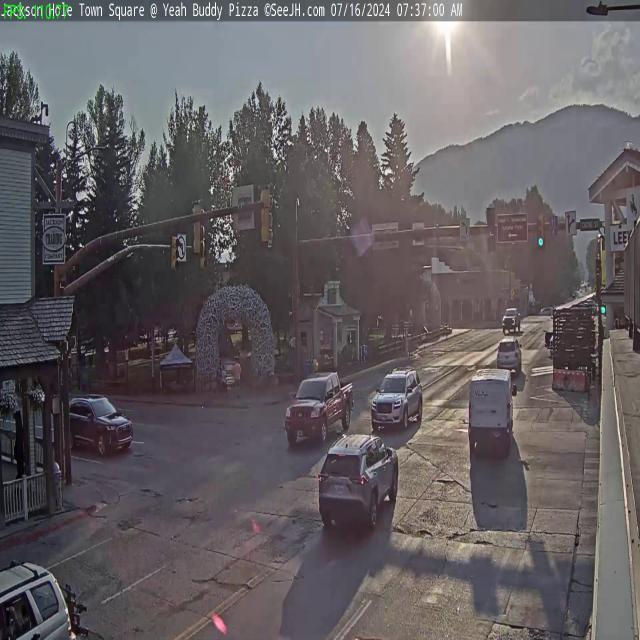person: (232, 355, 240, 394)
pickup: (286, 371, 354, 449)
suv: (316, 434, 402, 534), (0, 554, 82, 640), (67, 393, 134, 459), (370, 367, 422, 432), (496, 336, 522, 372)
traffic light: (260, 184, 272, 246), (486, 207, 496, 252), (170, 231, 178, 275), (536, 214, 546, 248), (200, 236, 208, 270)
van: (464, 368, 516, 450)
